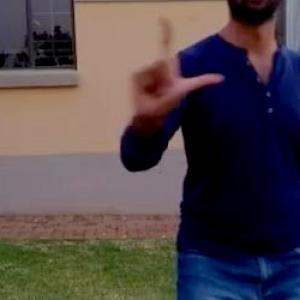land_hand: (125, 11, 228, 126)
